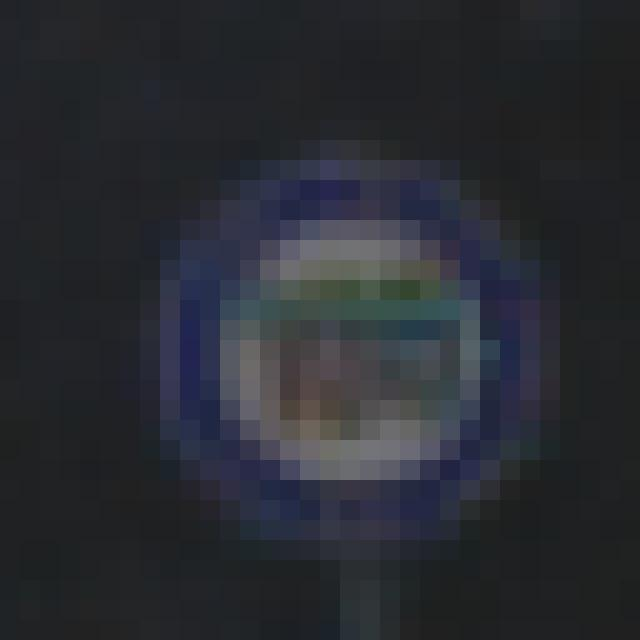SPEED LIMIT 100: (148, 151, 534, 544)
